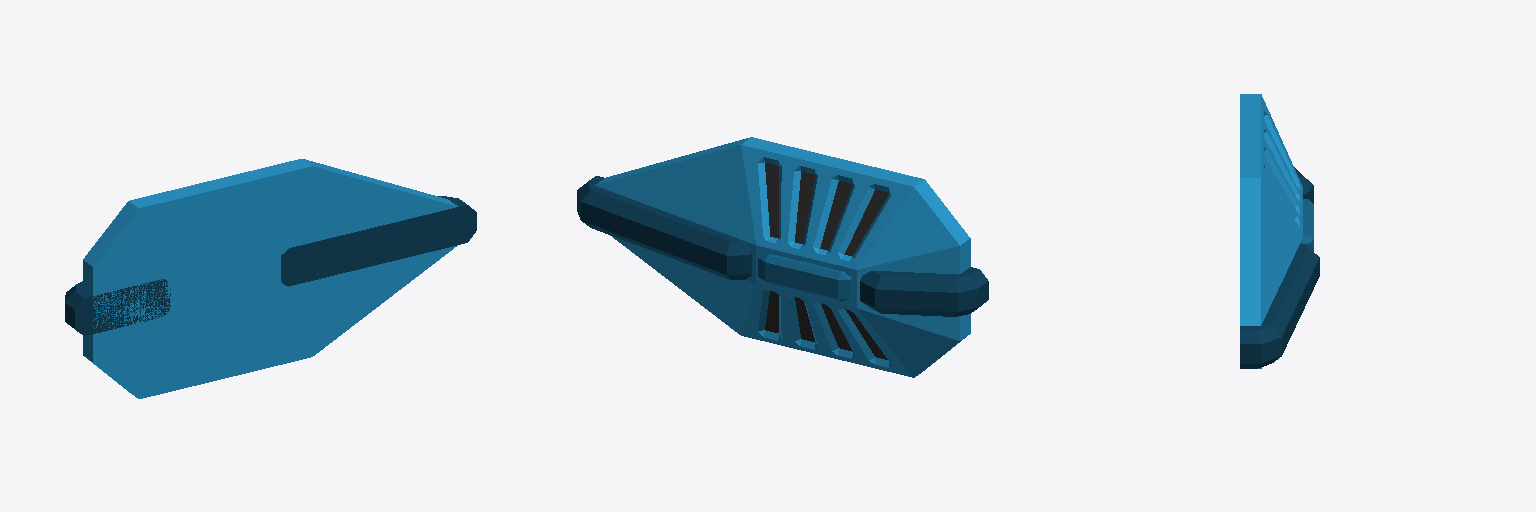
Rendered from Spacestation_Structure_Cockpit_Model_B_End_1.obj.
3 views of the same model, side by side, from view 1: azimuth 30°, elevation 25°; view 2: azimuth 150°, elevation 25°; view 3: azimuth 270°, elevation 25° (orthographic).
Visible parts, largest first — view 1: object6, object2, object5; view 2: object6, object2, object5, object4, object3, object1; view 3: object6, object2, object3.
Part boxes in pixels (x1,y1,x2,y2): object6: (83,159,457,398); object2: (281,196,476,286); object5: (65,279,170,335); object6: (595,137,970,377); object2: (577,176,751,279); object5: (860,267,988,316); object4: (765,163,889,256); object3: (758,254,851,301); object1: (765,291,887,359); object6: (1240,94,1302,368); object2: (1240,243,1319,368); object3: (1303,199,1313,251).
Bounding box in the file's own units: 2.2 × 1 × 0.3784.